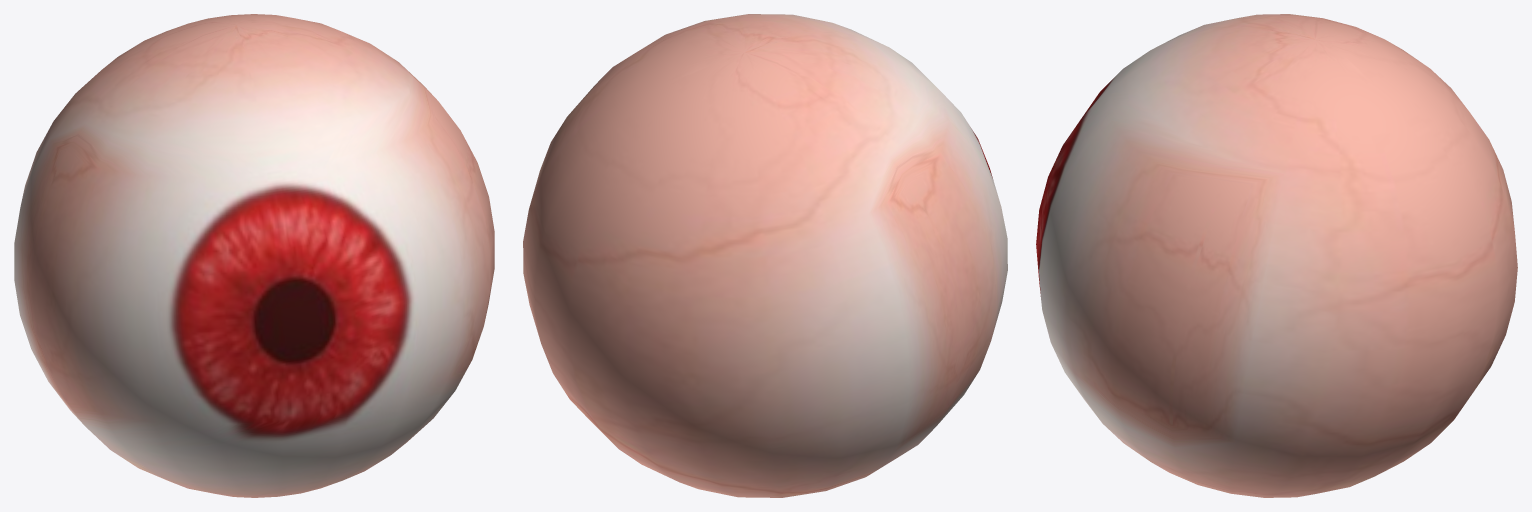
File: ojo.obj
3 renders of one model, left to right at view 1: azimuth 30°, elevation 25°; view 2: azimuth 150°, elevation 25°; view 3: azimuth 270°, elevation 25°, orthographic.
Parts seen in each view (by area): view 1: polySurface152 timeTravel:pCylinder5; view 2: polySurface152 timeTravel:pCylinder5; view 3: polySurface152 timeTravel:pCylinder5.
Boxes of the visible parts, x1,y1,x2,y2 form: polySurface152 timeTravel:pCylinder5: (14, 14, 494, 497); polySurface152 timeTravel:pCylinder5: (523, 14, 1007, 497); polySurface152 timeTravel:pCylinder5: (1036, 14, 1517, 497).
Bounding box in the file's own units: 0.3768 × 0.3791 × 0.3768.
1 material, 1 textured.
